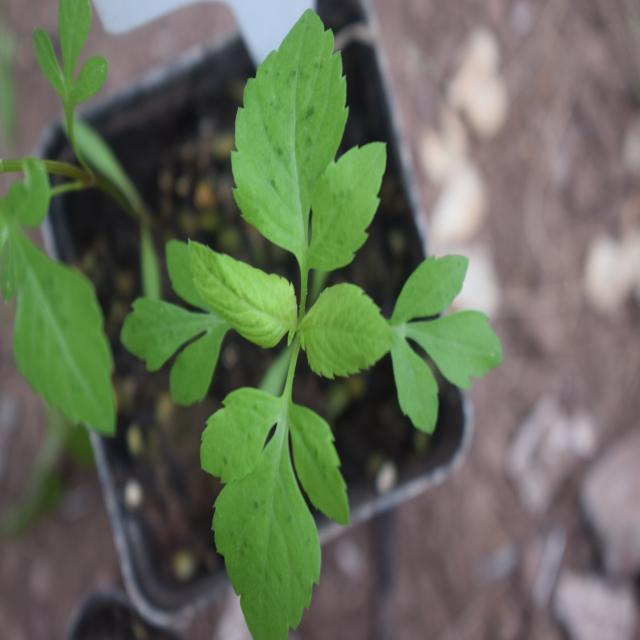Bidens pilosa: (162, 11, 488, 624)
